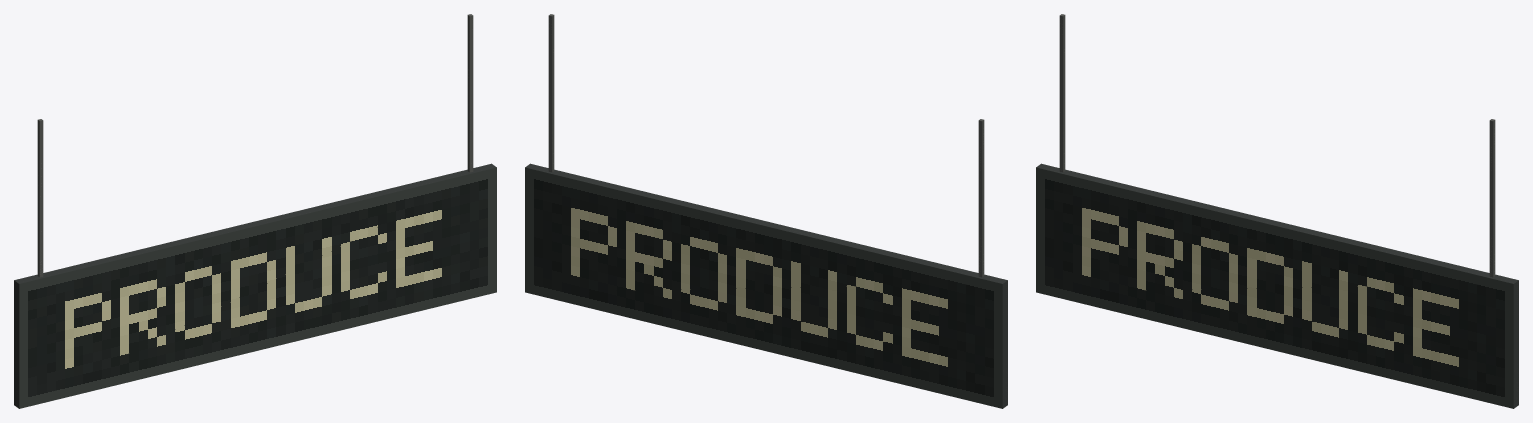
Rendered from sign_produce.glb.
3 views of the same model, side by side, from view 1: azimuth 30°, elevation 25°; view 2: azimuth 150°, elevation 25°; view 3: azimuth 330°, elevation 25° (orthographic).
Visible parts, largest first — view 1: SignProduce; view 2: SignProduce; view 3: SignProduce.
Boxes of the visible parts, box(x1,y1,x2,y2) form: SignProduce: box(14, 14, 496, 408); SignProduce: box(525, 14, 1007, 408); SignProduce: box(1036, 14, 1518, 408).
Bounding box in the file's own units: 1.6 × 0.9 × 0.03.
Materials: 1 (1 with a texture image).
